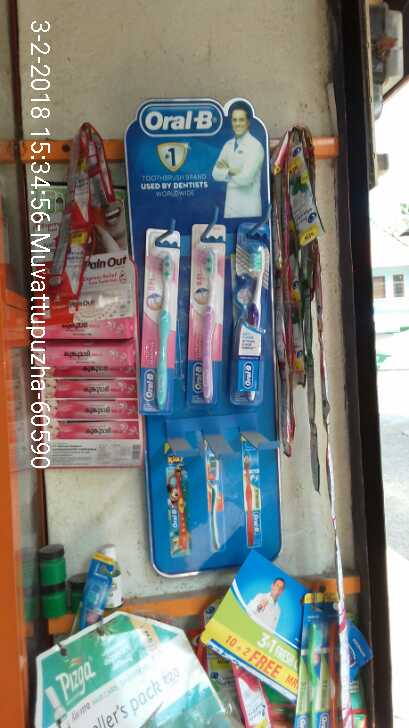oralb: (231, 227, 280, 404), (149, 247, 184, 422), (196, 246, 226, 406)
